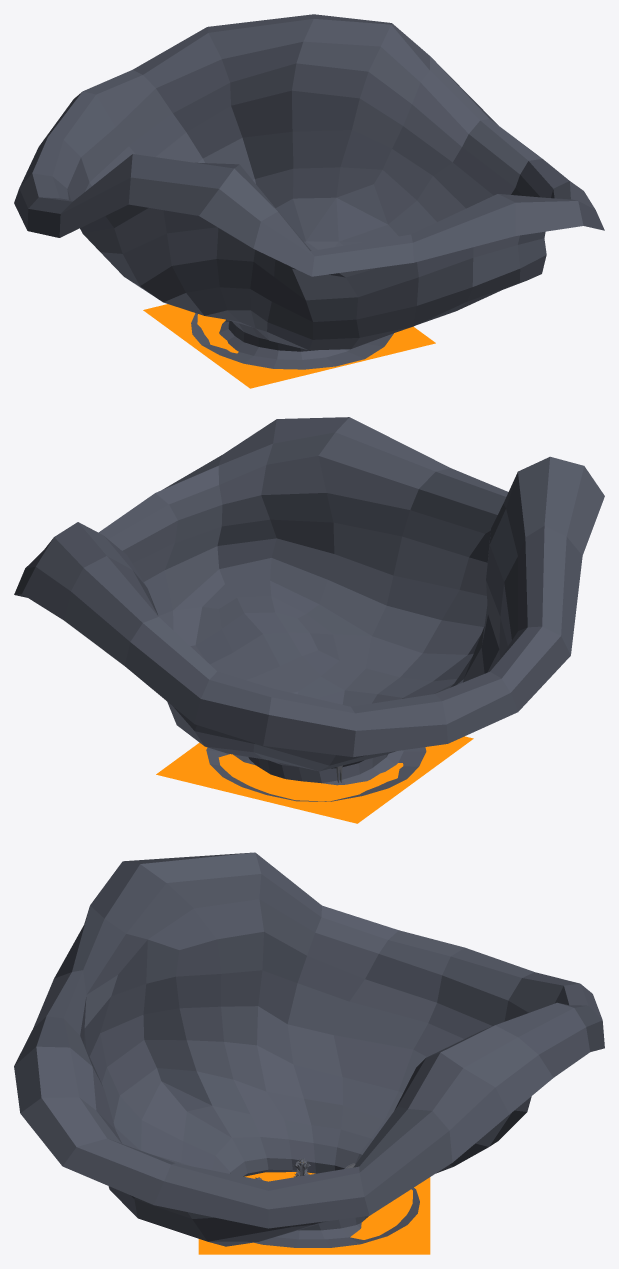
The model's file is Arena_Base.fbx.
3 views of the same model, one above another, from view 1: azimuth 30°, elevation 25°; view 2: azimuth 150°, elevation 25°; view 3: azimuth 270°, elevation 25° (orthographic). The views are drawn at different scales.
Parts seen in each view (by area): view 1: Arena_Wall, magma; view 2: Arena_Wall, magma; view 3: Arena_Wall, magma.
Boxes of the visible parts, <box> form: Arena_Wall: <box>14,14,604,369</box>; magma: <box>143,304,435,388</box>; Arena_Wall: <box>14,417,604,801</box>; magma: <box>156,736,473,823</box>; Arena_Wall: <box>14,852,604,1247</box>; magma: <box>198,1172,430,1254</box>.
Bounding box in the file's own units: 23.4 × 12 × 23.26.
